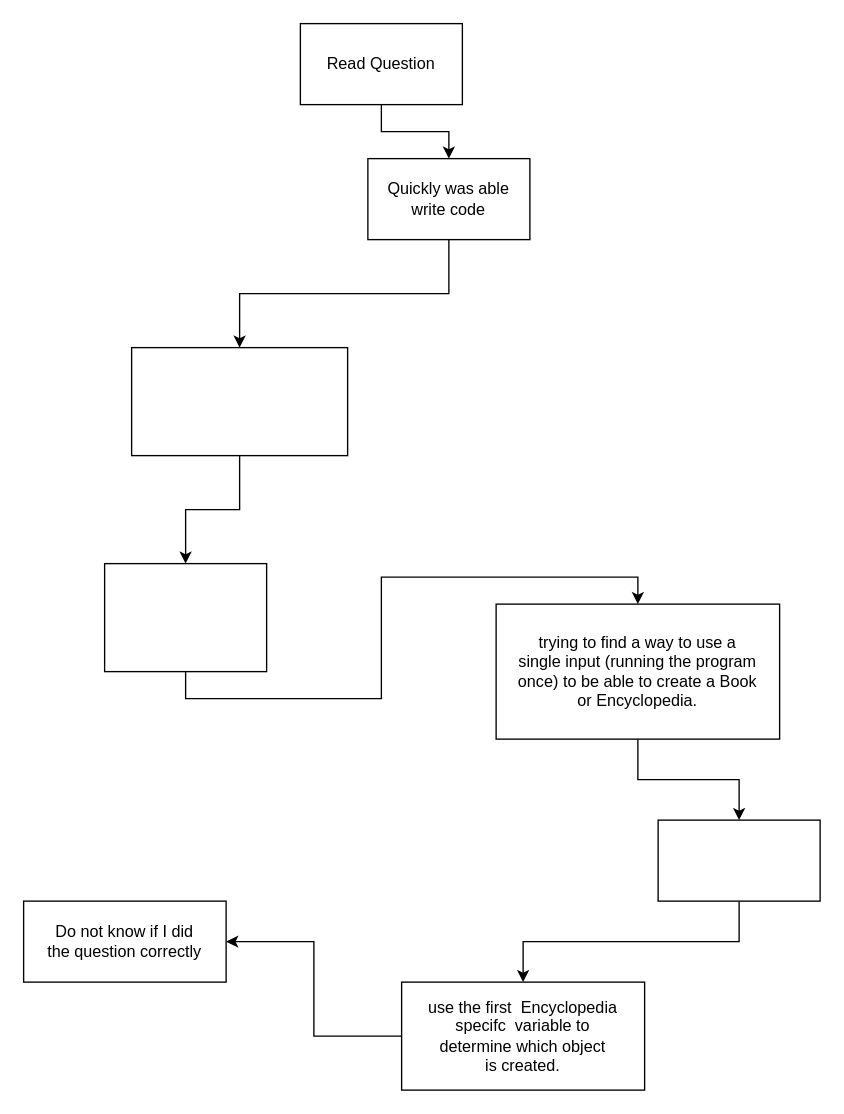
This 844x1114 diagram has some shape labels left out. The centre of each missing label's shape, as x and y in pixels:
'\n' was left in buffer when scanner.nextInt(): pixel 185 617
answer: pixel 738 860
find a way for int input to not go into an infinite loop: pixel 239 401
